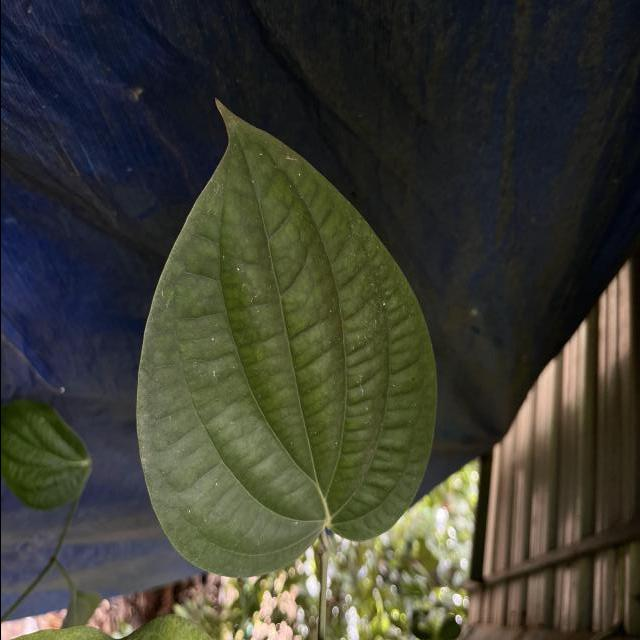Piper nigrum: (133, 90, 443, 581)
